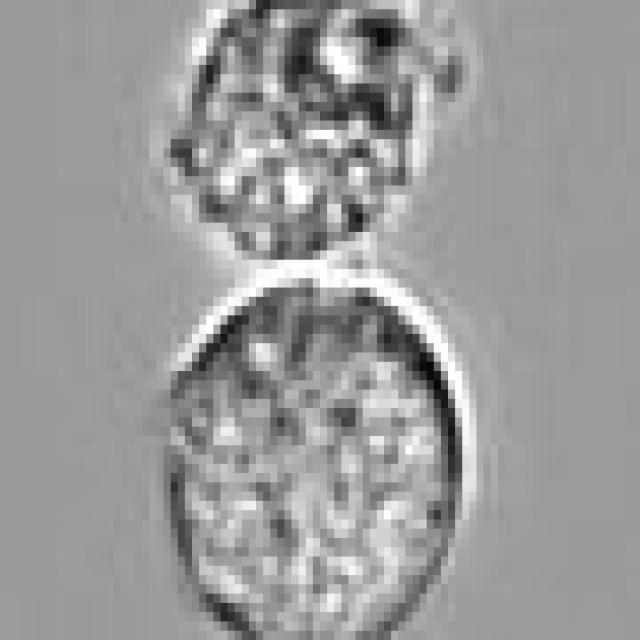Cancer Cell: (164, 269, 476, 640)
WBC: (178, 9, 434, 260)
